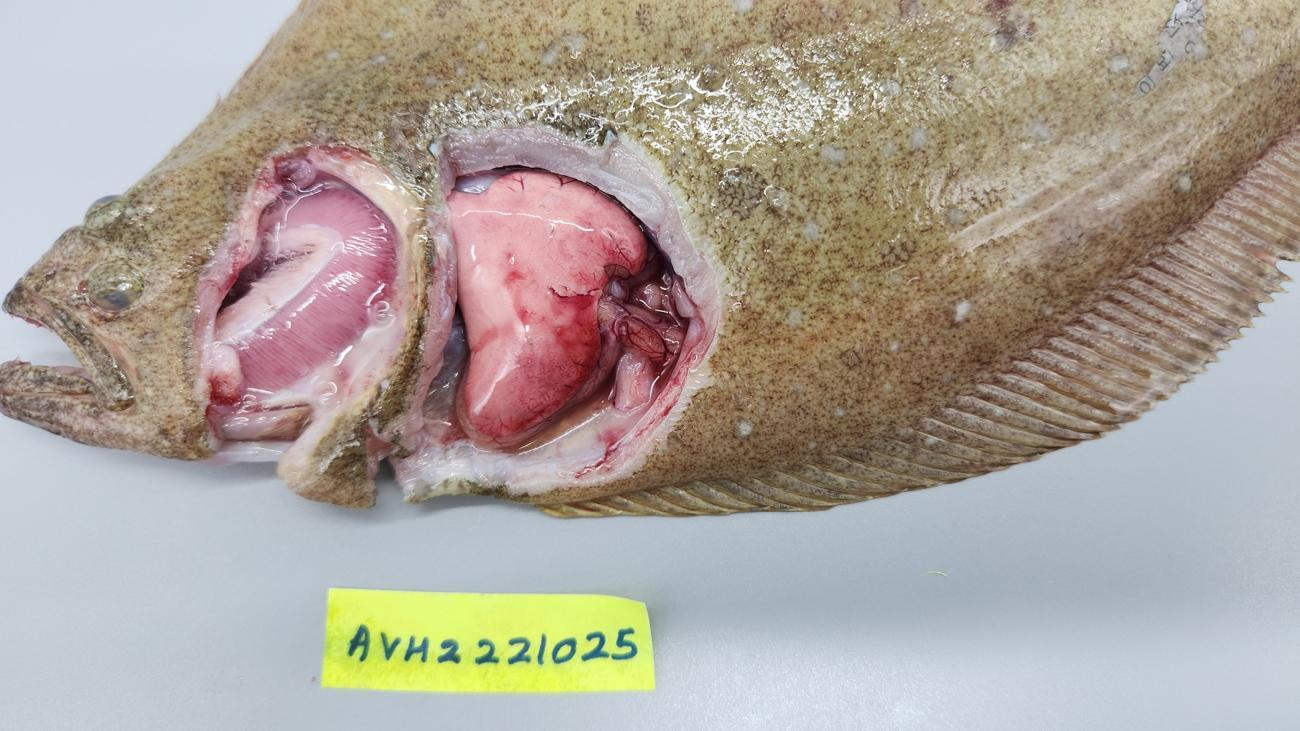VIGIP: (230, 188, 394, 392)
